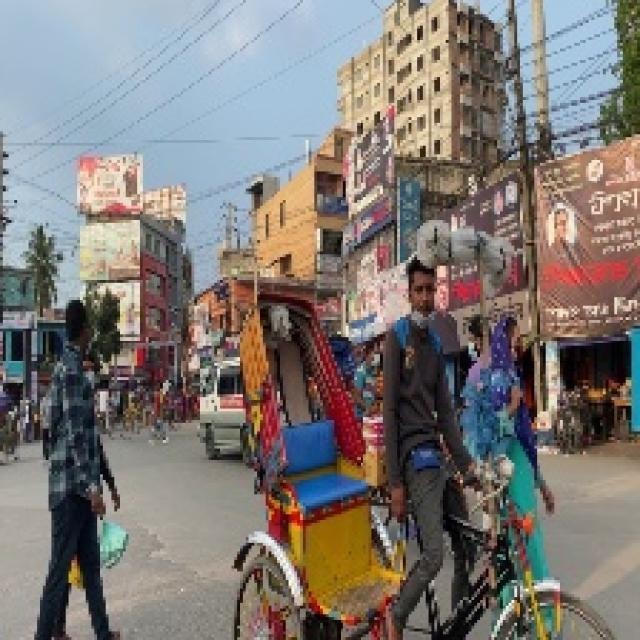rickshaw: (237, 267, 618, 627)
